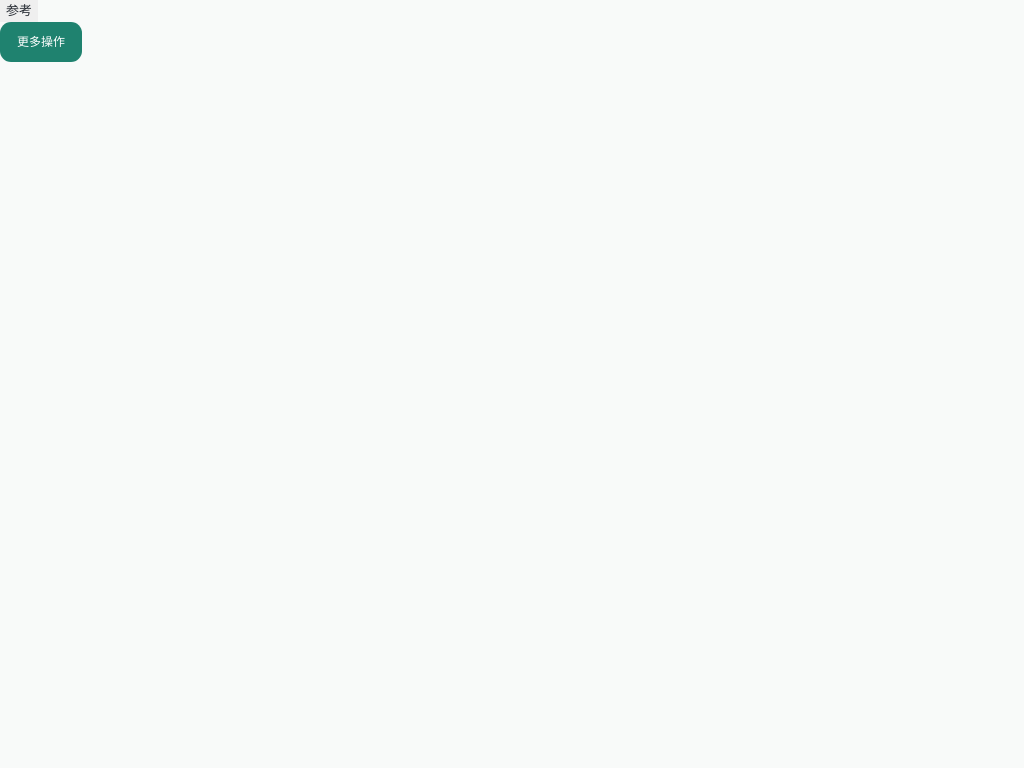
overlays › describes tooltip content and toggles a popover
Earlier steps of the test are not shown.
Click the button "更多操作".
click(41, 42)  # box [0,22,82,62]
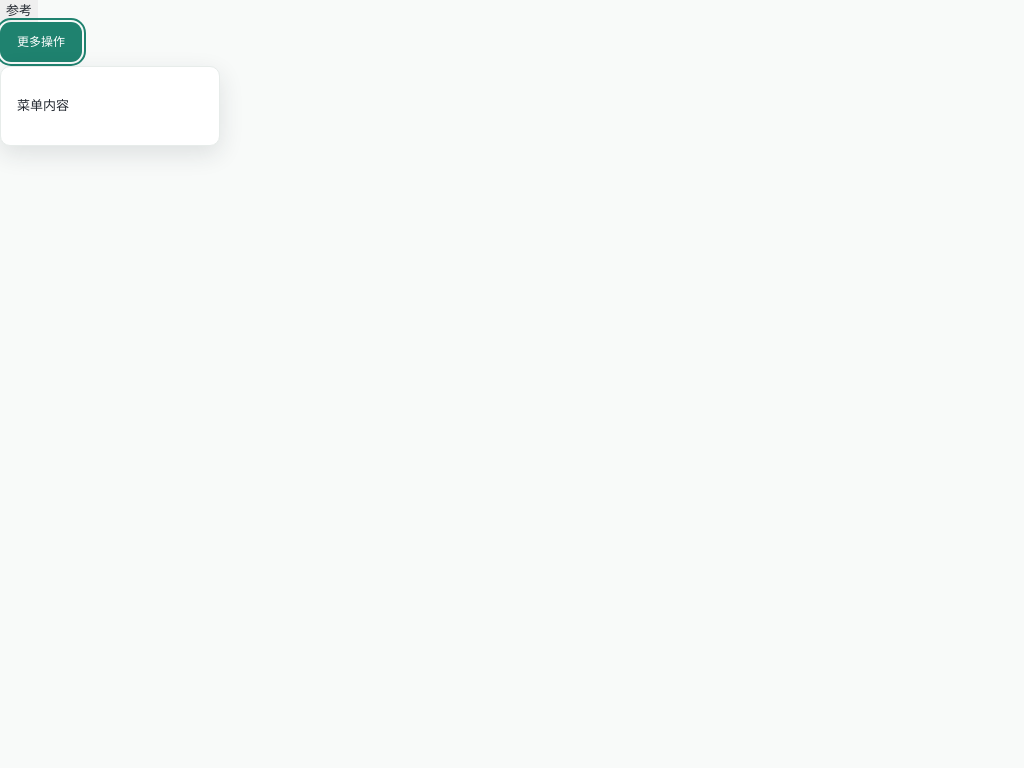
Expected: the dialog named "更多操作" is shown, [0,66,220,146]
